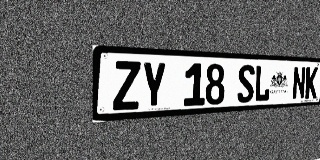1: (184, 63, 205, 106)
8: (205, 63, 225, 105)
K: (305, 67, 318, 99)
L: (254, 65, 271, 102)
N: (292, 66, 306, 100)
S: (237, 64, 255, 103)
Y: (141, 61, 166, 109)
Z: (113, 61, 141, 111)
